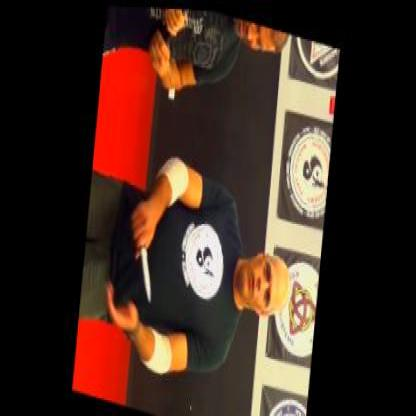knife: (124, 201, 160, 304)
